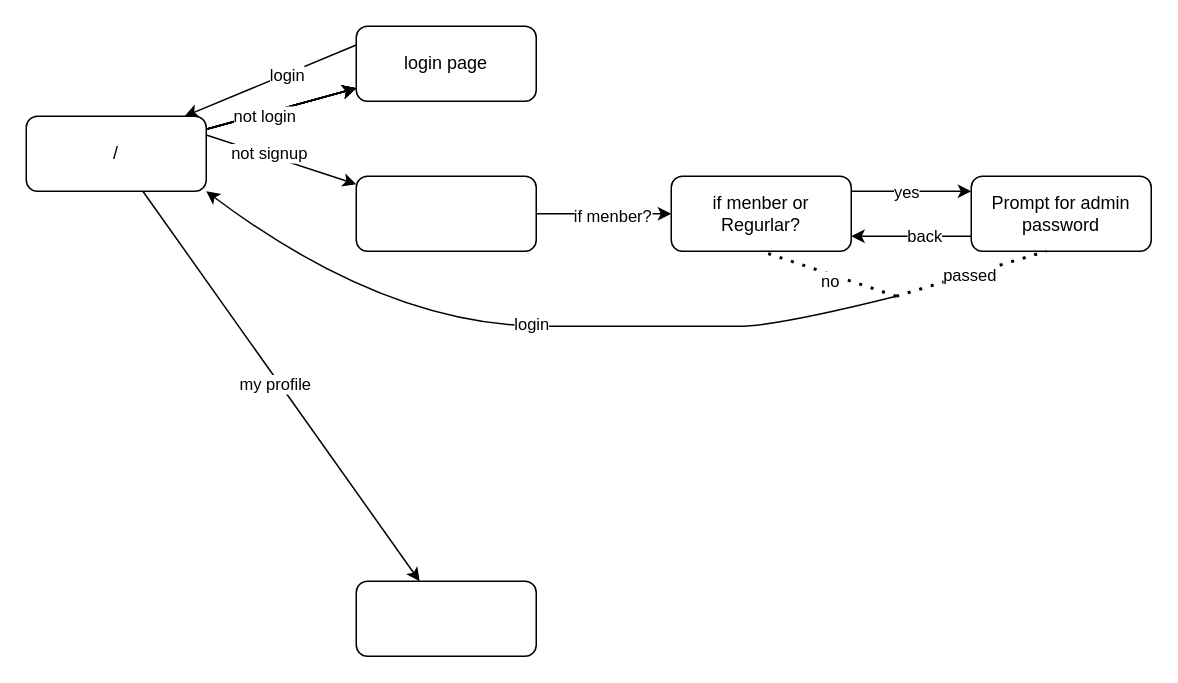
Image size: 1178x683. Some labels were removed from this diagram. The centre of each missing label's shape, as x and y in pixels:
"signup page" goes at point (445, 213).
"View profile details" goes at point (445, 618).
